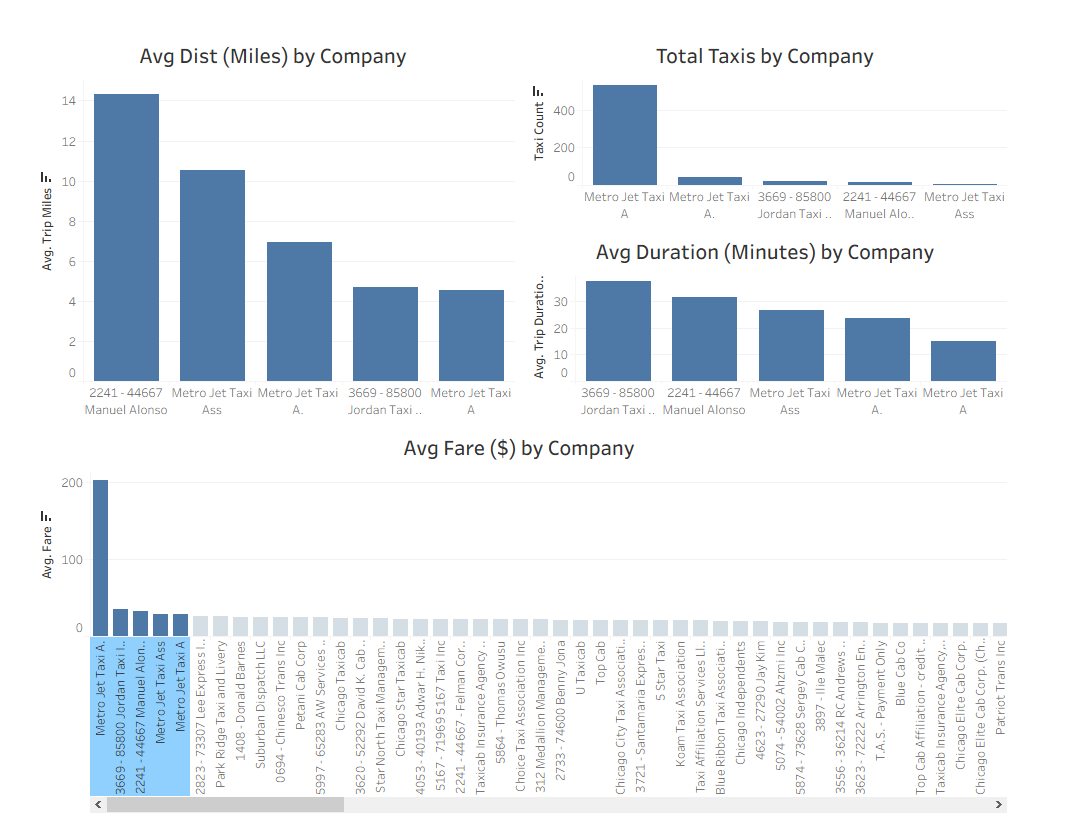

The page's visual inventory and layout, read from the dashboard file:
{"tool":"tableau","page":{"name":"Company Performance","canvas":[1000,800],"ordinal":0},"visuals":[{"type":"worksheet","title":"Avg Dist (Miles) by Company","mark":"Automatic","rows":["trip_miles"],"cols":["company"],"box":[8,8,492,392]},{"type":"worksheet","title":"Total Taxis by Company","mark":"Automatic","rows":["Calculation_0953017154048002"],"cols":["company"],"box":[500,8,492,196]},{"type":"worksheet","title":"Avg Duration (Minutes) by Company","mark":"Automatic","rows":["Calculation_0953017151578112"],"cols":["company"],"box":[500,204,492,196]},{"type":"worksheet","title":"Avg Fare ($) by Company","mark":"Automatic","rows":["fare"],"cols":["company"],"box":[8,400,984,392]}]}

Visuals, with their boxes on the page's 1000x800 design canvas (x1, y1, x2, y2). These are canvas units, not pixel positions in the 1087x837 screenshot, which may show the page scaled, cropped or inside an application window:
"Avg Dist (Miles) by Company" worksheet: pyautogui.locateOnScreen(8, 8, 500, 400)
"Total Taxis by Company" worksheet: pyautogui.locateOnScreen(500, 8, 992, 204)
"Avg Duration (Minutes) by Company" worksheet: pyautogui.locateOnScreen(500, 204, 992, 400)
"Avg Fare ($) by Company" worksheet: pyautogui.locateOnScreen(8, 400, 992, 792)
